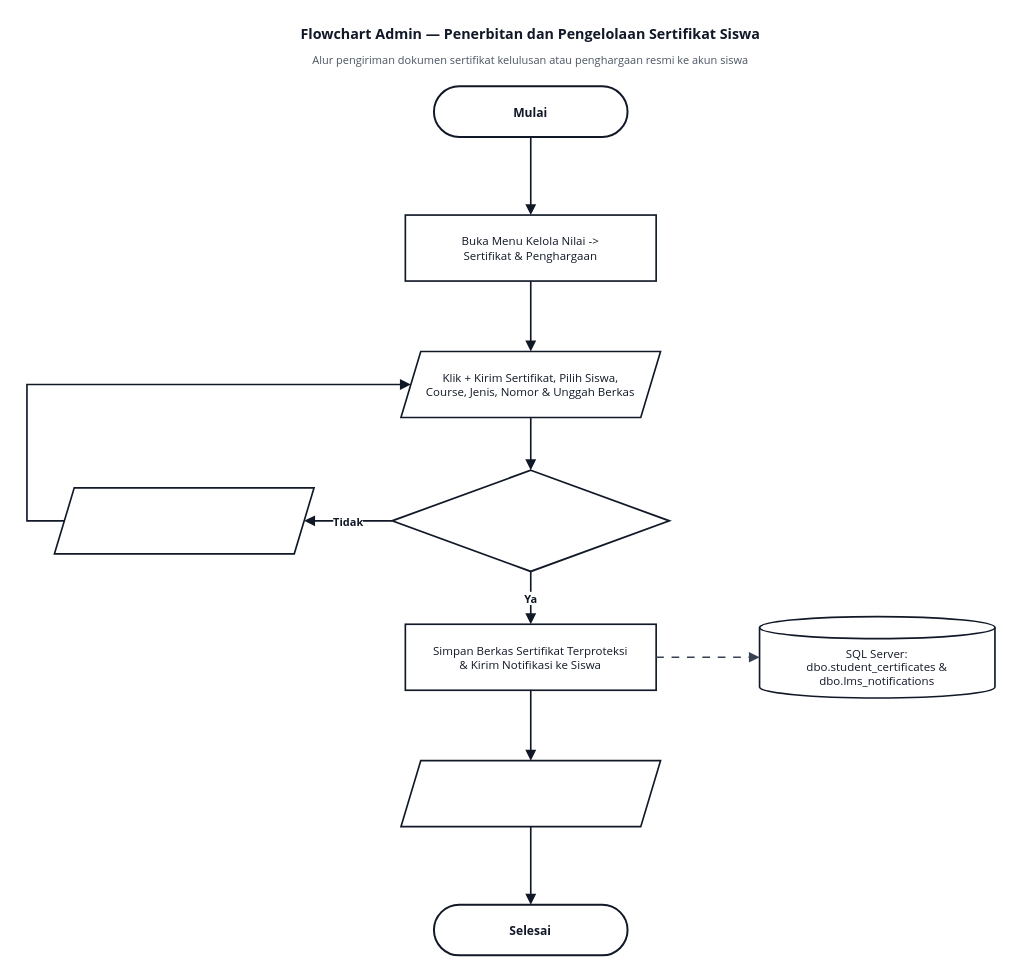
The diagram is 1015 pixels wide and 975 high, and some of its shapes have lost their labels. Each missing label, with the centre of its shape:
"Data Siswa & Berkas PDF/Gambar Valid?" goes at pixel 530 520.
"Tampilkan Peringatan Validasi Formulir Sertifikat" goes at pixel 183 520.
"Tampilkan Sertifikat Terkirim pada Daftar Sertifikat" goes at pixel 530 793.
